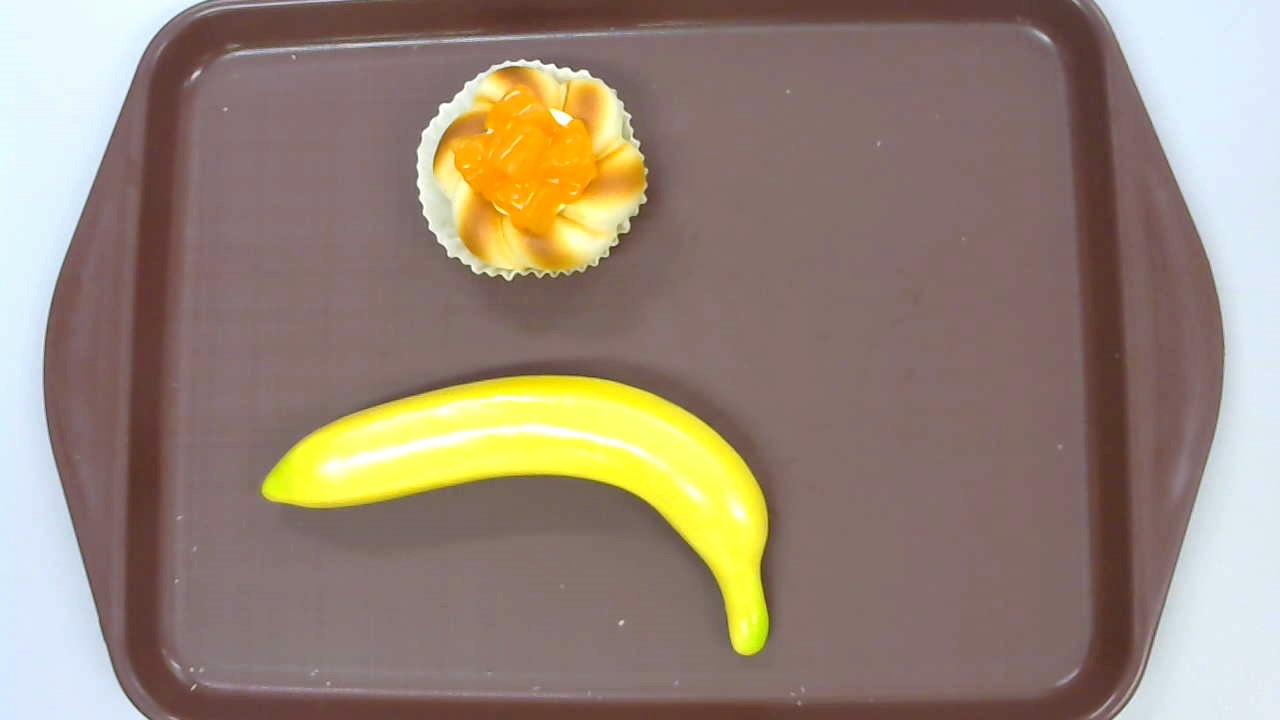banana: (260, 374, 771, 656)
mango tart: (416, 58, 649, 284)
